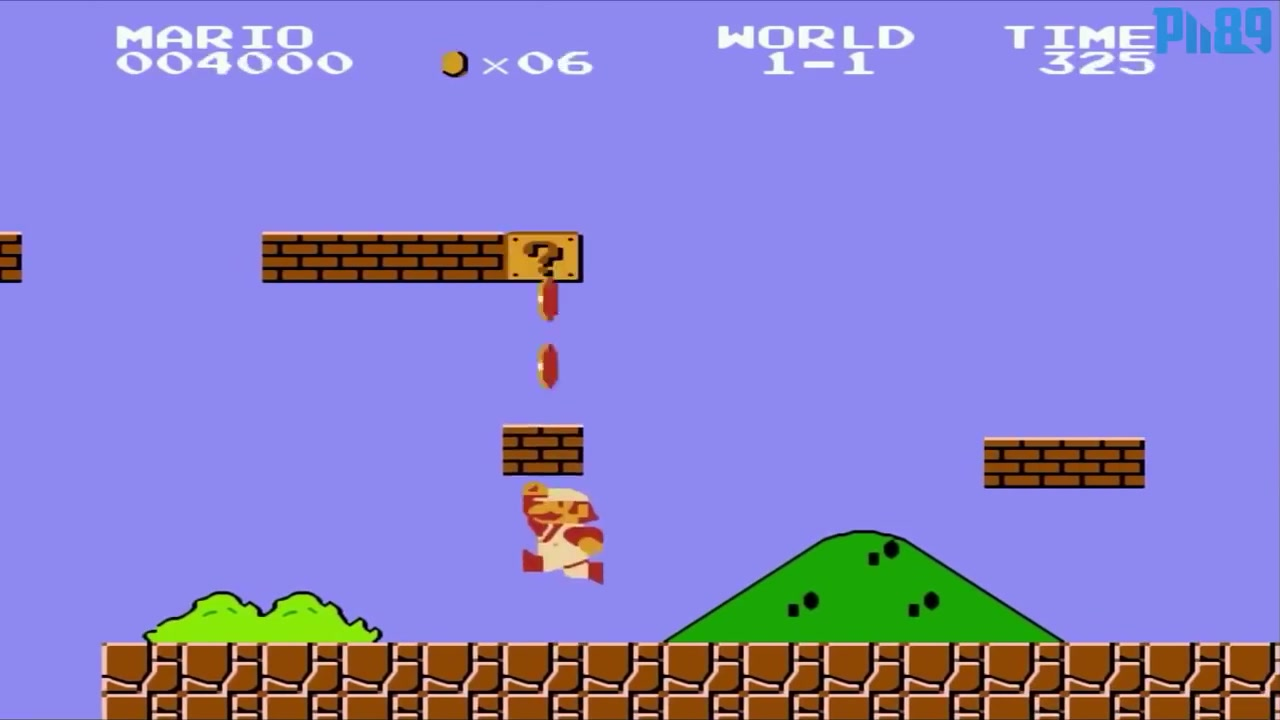mario: (511, 483, 609, 586)
